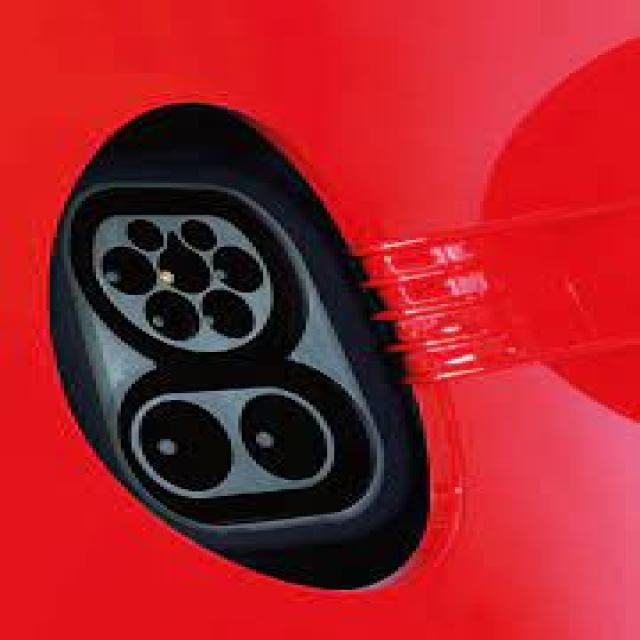inlet: (93, 215, 273, 353)
inlet-above-left: (126, 218, 166, 252)
inlet-above-right: (178, 220, 217, 251)
inlet-below-left: (145, 291, 199, 341)
inlet-below-right: (199, 289, 253, 338)
inlet-circle: (157, 248, 210, 293)
inlet-circle-left: (101, 248, 156, 295)
inlet-circle-right: (212, 247, 265, 294)
inlet-minus: (239, 395, 327, 481)
inlet-plus: (140, 400, 233, 490)
